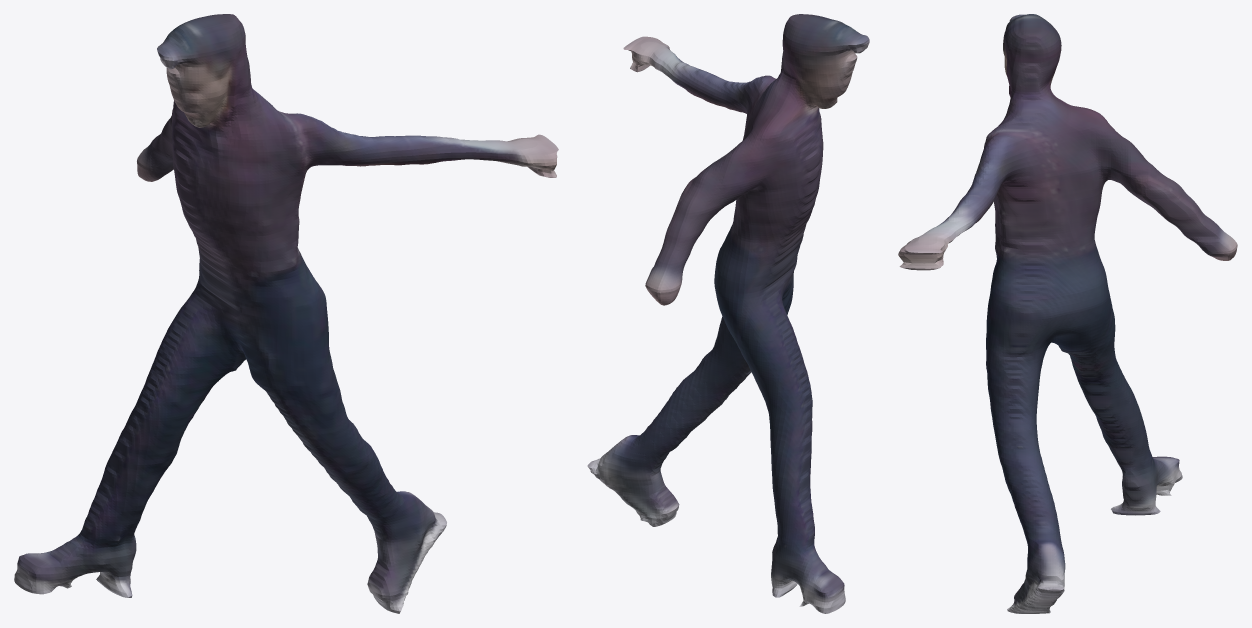
The model's file is 0090_tex.glb.
3 views of the same model, side by side, from view 1: azimuth 30°, elevation 25°; view 2: azimuth 150°, elevation 25°; view 3: azimuth 270°, elevation 25° (orthographic). The views are drawn at different scales.
Visible parts, largest first — view 1: 0090_tex.obj; view 2: 0090_tex.obj; view 3: 0090_tex.obj.
Part boxes in pixels (x1,y1,x2,y2): 0090_tex.obj: (14, 14, 558, 613); 0090_tex.obj: (587, 14, 869, 613); 0090_tex.obj: (898, 14, 1237, 613).
Bounding box in the file's own units: 0.58 × 0.8966 × 0.5325.
